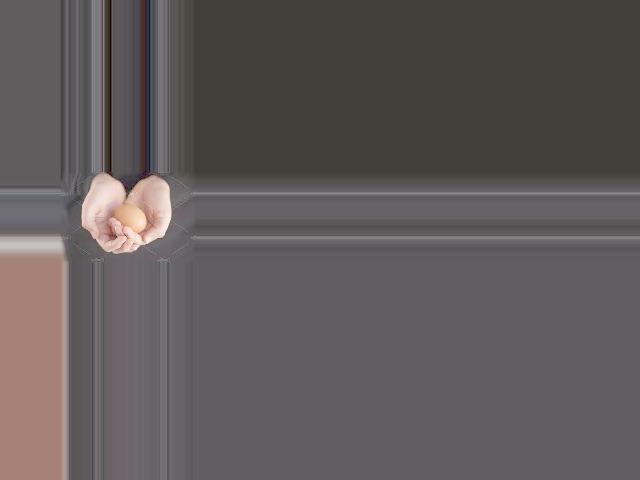egg: (112, 204, 146, 232)
